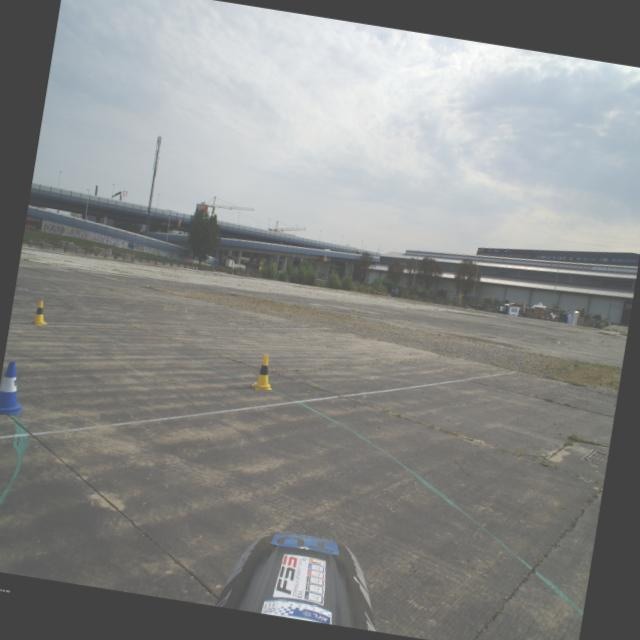blue_cone: (0, 360, 30, 419)
yellow_cone: (251, 353, 277, 392), (28, 298, 51, 326)
